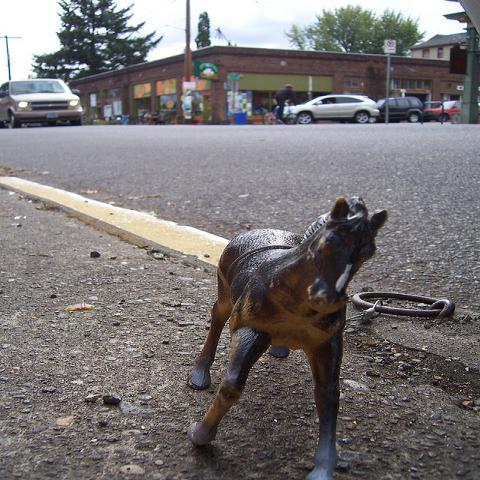car: (3, 78, 85, 127), (283, 94, 384, 125), (369, 97, 425, 123), (422, 98, 479, 122)
